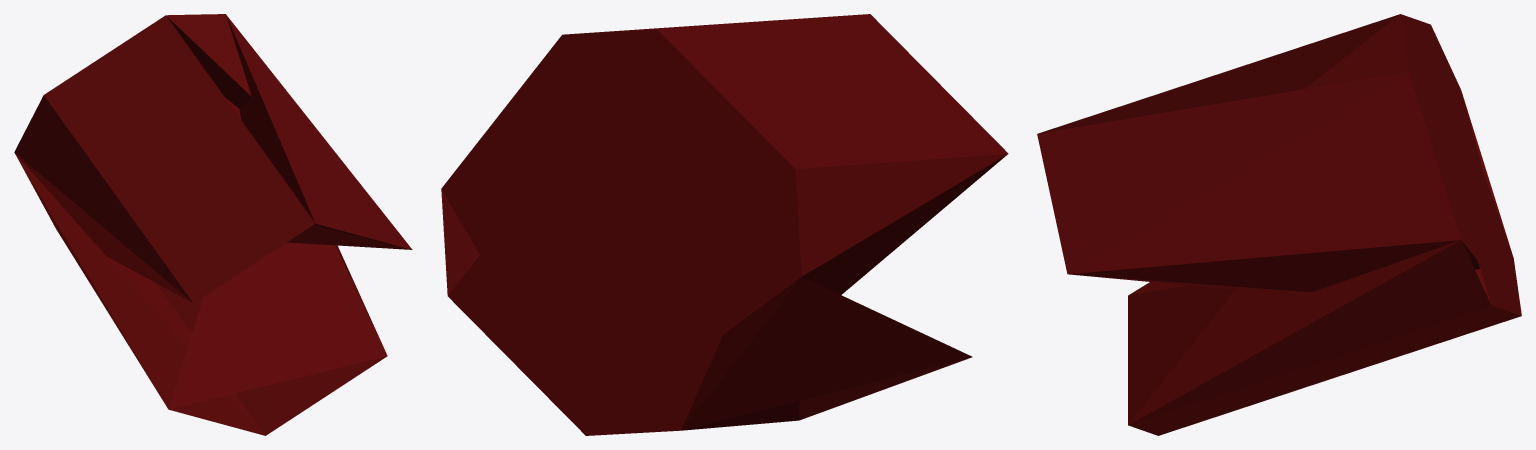
File: S.S._Dolphin_Whimsical_Radar_2.obj
The picture shows the model from 3 angles, left to right: view 1: azimuth 30°, elevation 25°; view 2: azimuth 150°, elevation 25°; view 3: azimuth 270°, elevation 25°; orthographic projection. The views are drawn at different scales.
Parts seen in each view (by area): view 1: S.S._Dolphin_Whimsical_Radar_2; view 2: S.S._Dolphin_Whimsical_Radar_2; view 3: S.S._Dolphin_Whimsical_Radar_2.
Part boxes in pixels (x1=…): S.S._Dolphin_Whimsical_Radar_2: x1=14, y1=14, x2=412, y2=435; S.S._Dolphin_Whimsical_Radar_2: x1=441, y1=14, x2=1008, y2=435; S.S._Dolphin_Whimsical_Radar_2: x1=1037, y1=14, x2=1521, y2=435.
Size of the model in its own units: 0.44 by 0.5776 by 0.6014.
